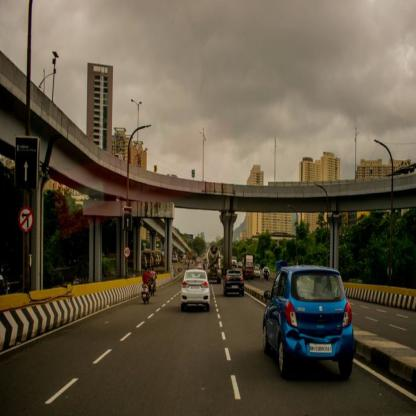car: (262, 266, 354, 377), (181, 269, 211, 310), (222, 270, 245, 296)
motorcycle: (141, 266, 151, 304), (149, 267, 158, 297)
